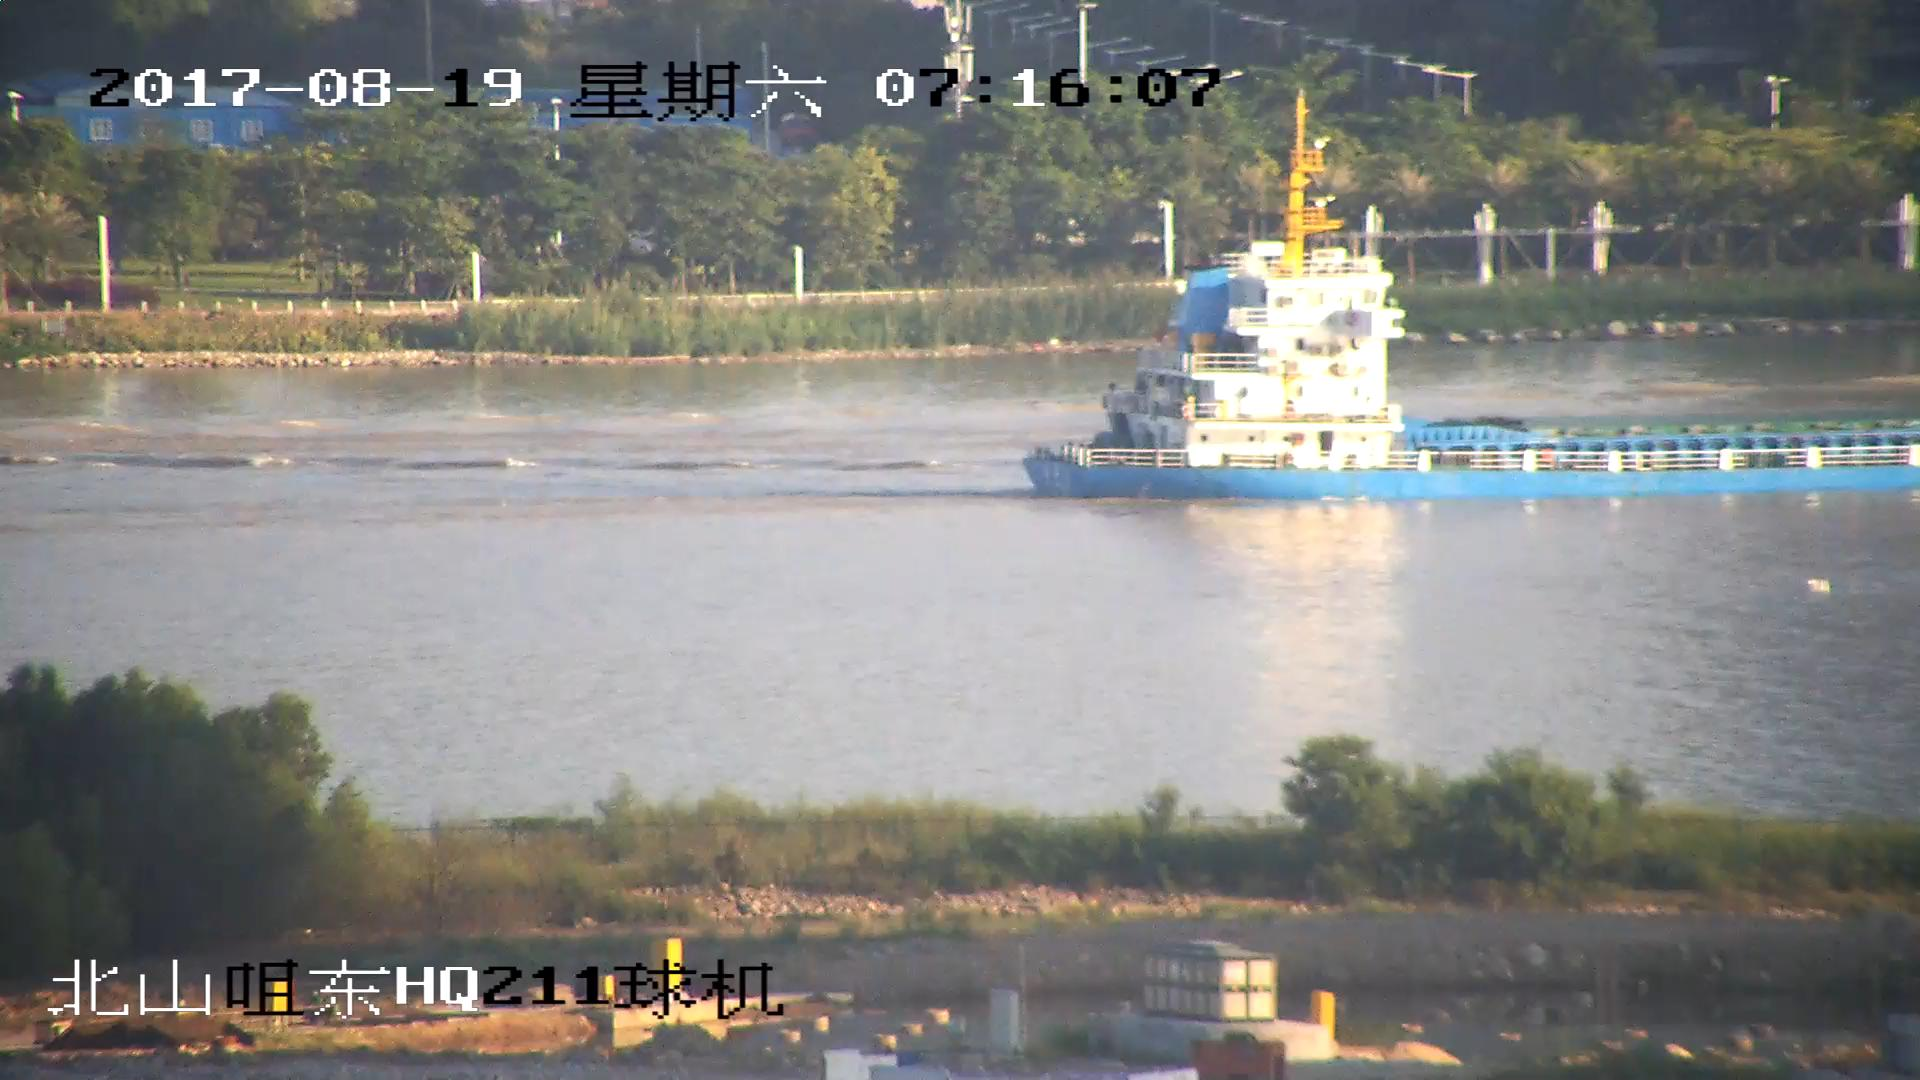general cargo ship: (1011, 114, 1920, 499)
